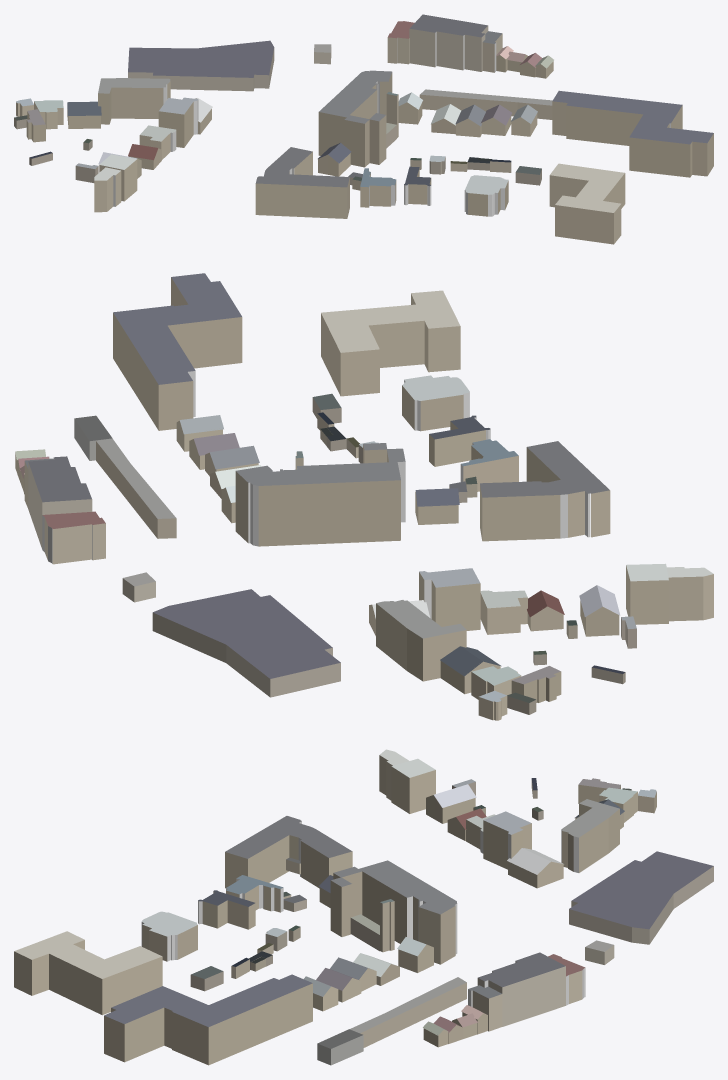
3 renders of one model, top to bottom at view 1: azimuth 30°, elevation 25°; view 2: azimuth 150°, elevation 25°; view 3: azimuth 270°, elevation 25°, orthographic. The views are drawn at different scales.
Parts seen in each view (by area): view 1: tuile; view 2: tuile; view 3: tuile.
Boxes of the visible parts, <box> form: tuile: <box>14,14,713,244</box>; tuile: <box>15,273,713,720</box>; tuile: <box>14,749,713,1065</box>.
Size of the model in its own units: 277 by 26.77 by 286.
